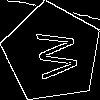W: (27, 28, 79, 82)
